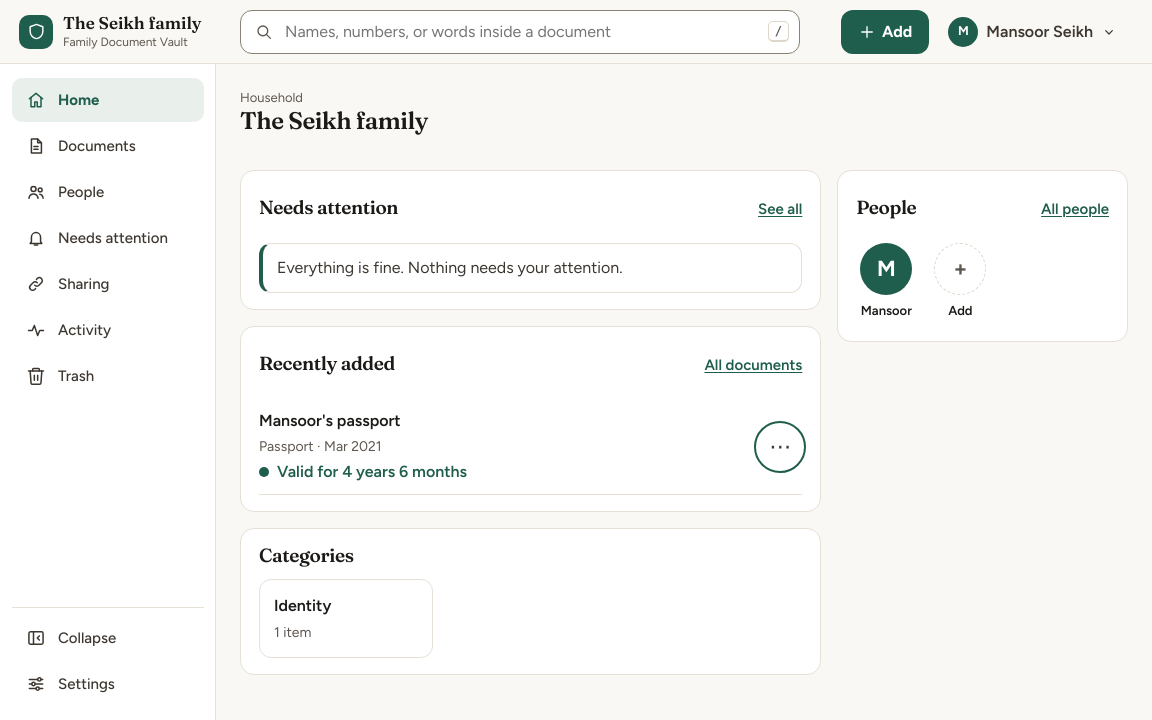
Test case: the same choice, wherever Only me is chosen (the third round) › from a row’s ⋯, Escape on the question puts away the question, not the sheet (W2)
Click the button named "Actions for “Mansoor's passport”".
click(780, 447)  # box x1=758 y1=425 x2=802 y2=469
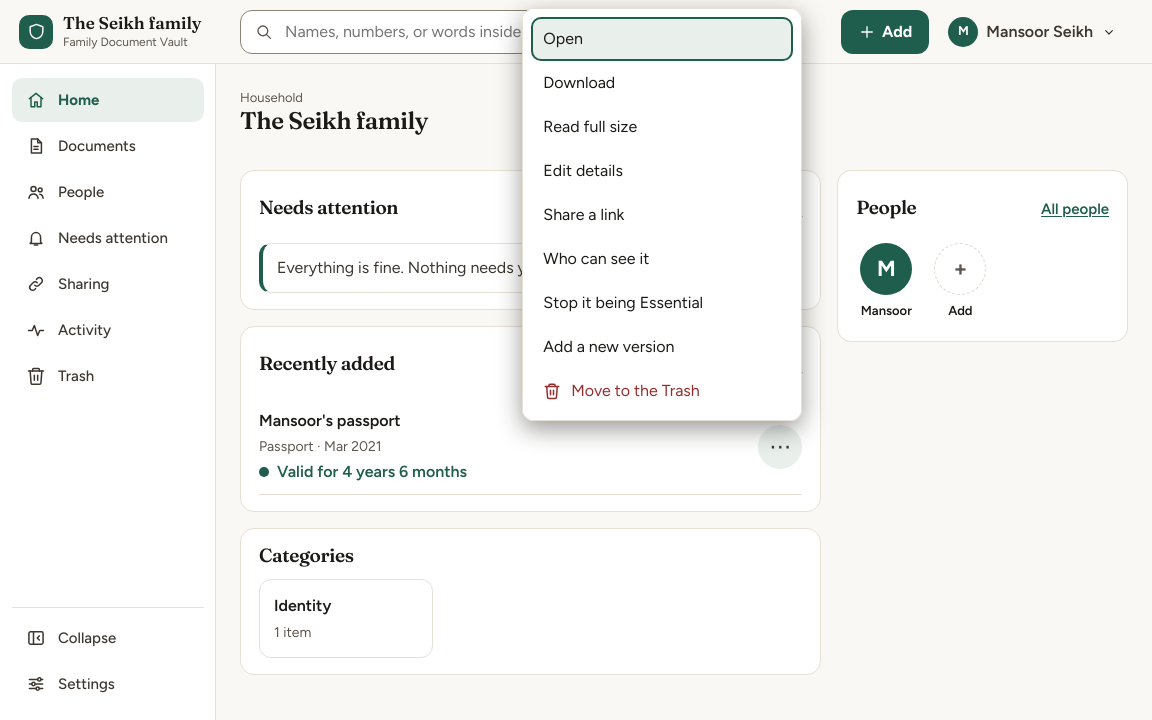
Click the menu item "Who can see it".
click(596, 258)  # box x1=531 y1=237 x2=793 y2=281
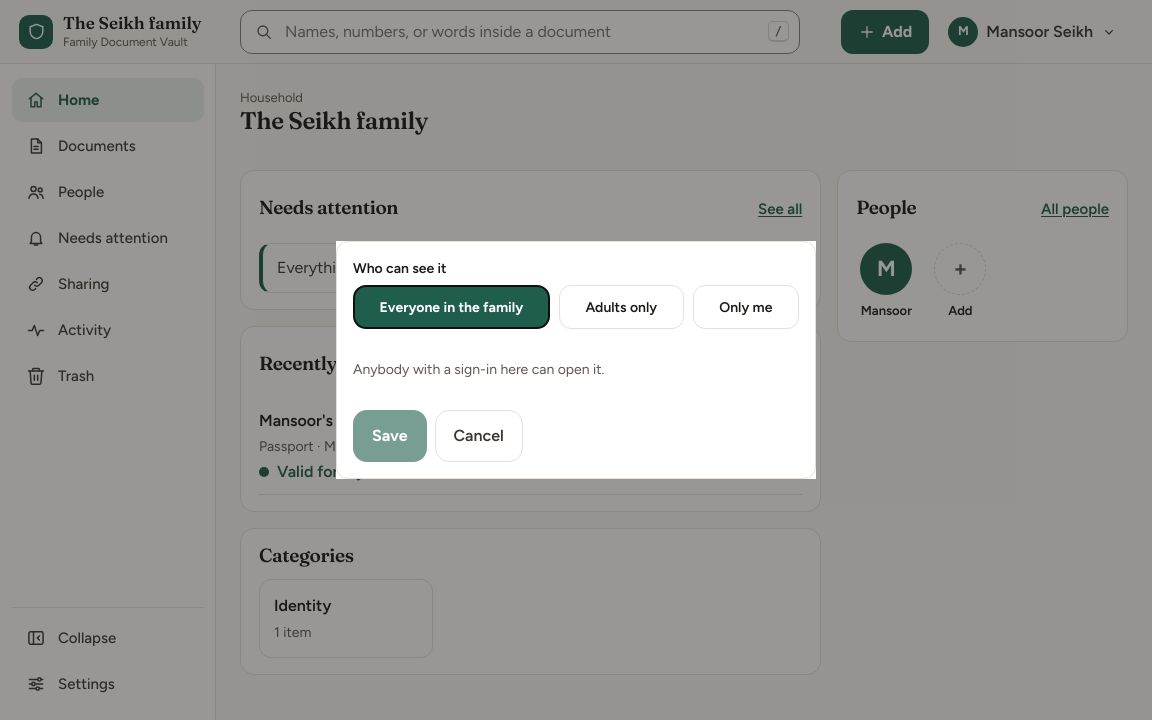
Click the button "Only me".
click(746, 307)  # box x1=693 y1=285 x2=799 y2=329
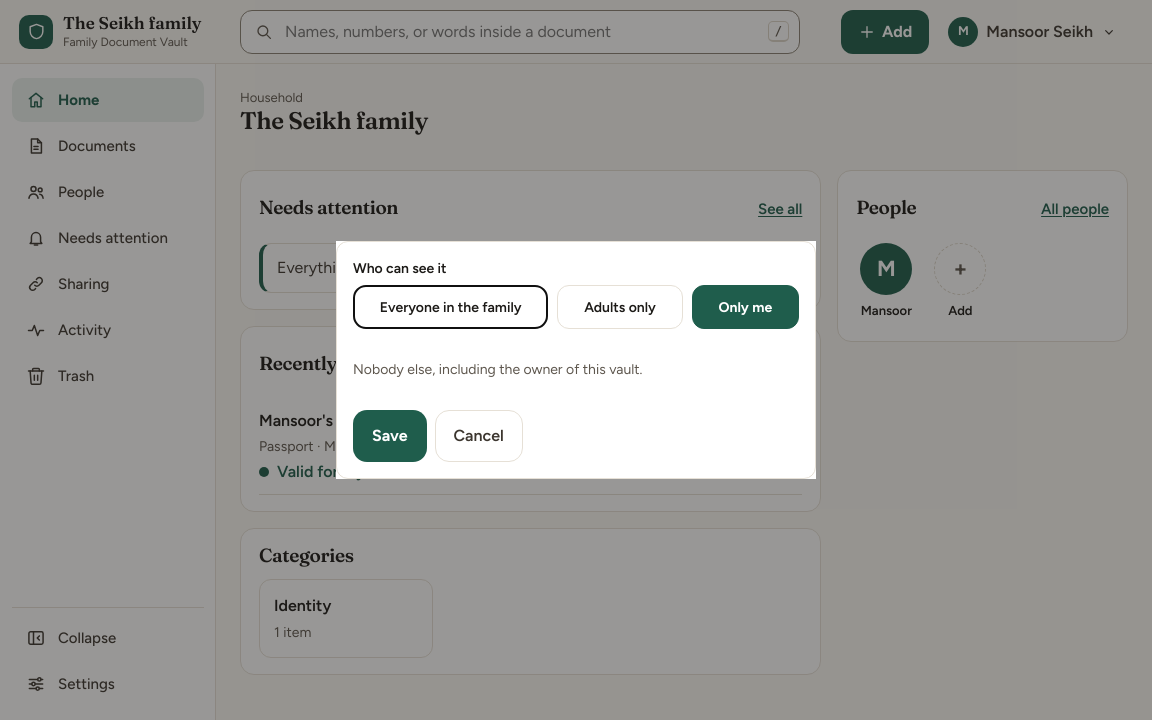
Click the button "Save".
click(390, 436)  # box x1=353 y1=410 x2=426 y2=462
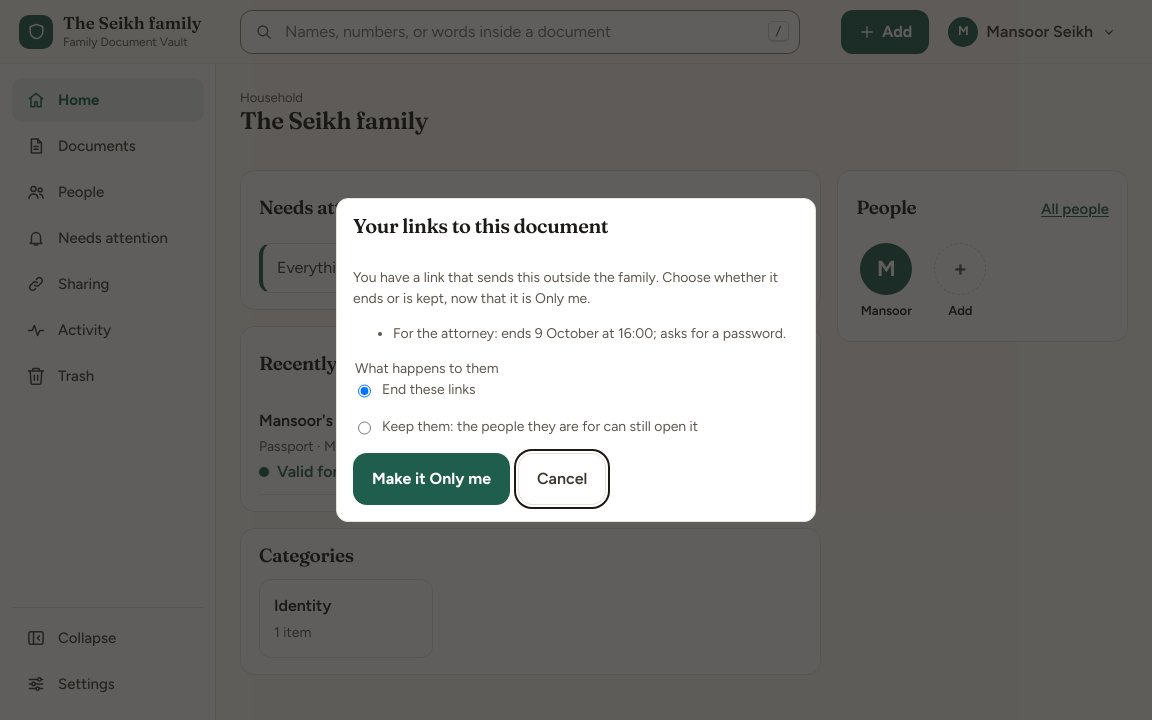
Press Escape in the dialog "Your links to this document", box x1=336 y1=198 x2=816 y2=522
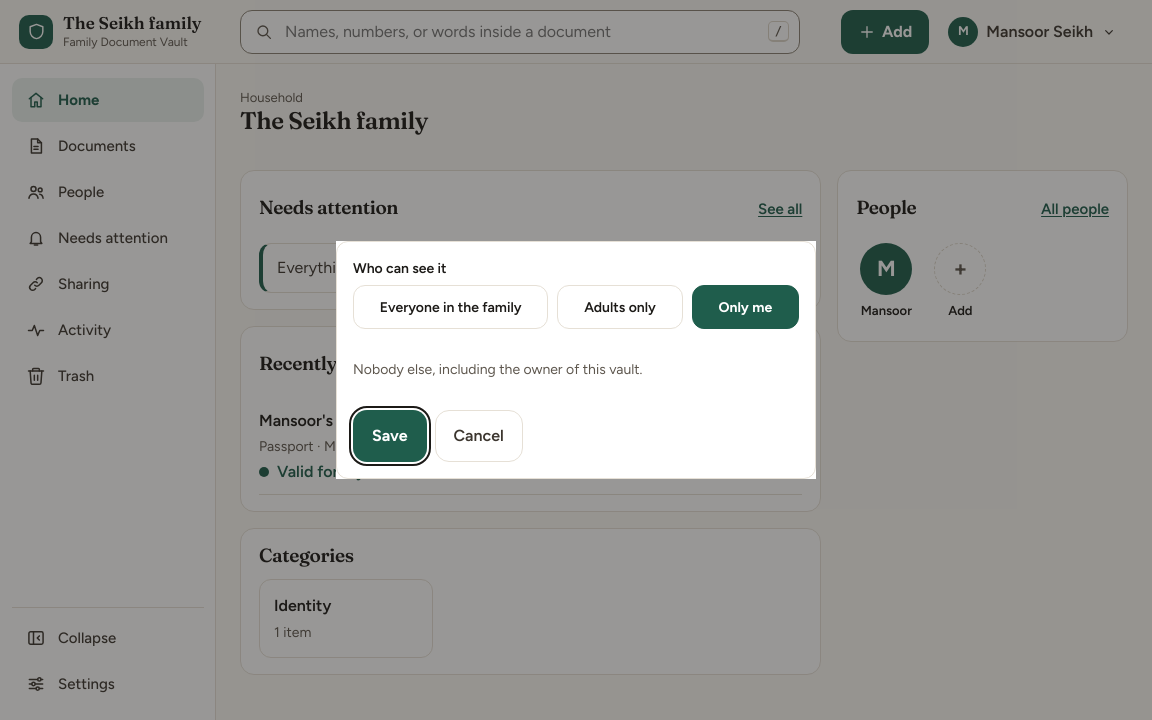
Expected: the dialog named "Who can see “Mansoor's passport”" is shown, x1=336 y1=241 x2=816 y2=479
Expected: the heading "Your links to this document" is gone
